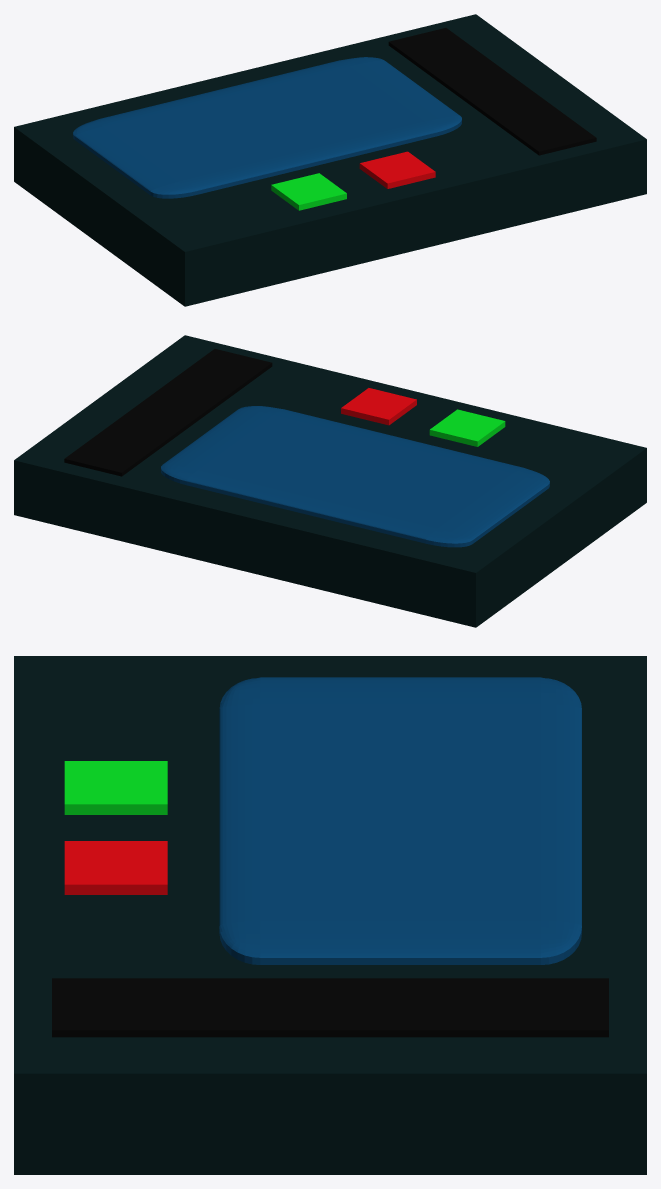
File: CardReader.fbx
3 renders of one model, top to bottom at view 1: azimuth 30°, elevation 25°; view 2: azimuth 150°, elevation 25°; view 3: azimuth 270°, elevation 25°, orthographic. The views are drawn at different scales.
Parts seen in each view (by area): view 1: Cube, Cube.002, Cube.001, Cube.003, Cube.004; view 2: Cube, Cube.002, Cube.001, Cube.004, Cube.003; view 3: Cube, Cube.002, Cube.001, Cube.003, Cube.004.
Part boxes in pixels (box(x1,y1,x2,y2)): Cube: box(14, 14, 646, 306); Cube.002: box(73, 57, 461, 198); Cube.001: box(388, 28, 596, 155); Cube.003: box(359, 151, 435, 188); Cube.004: box(271, 173, 346, 210); Cube: box(14, 335, 646, 627); Cube.002: box(161, 406, 549, 547); Cube.001: box(64, 349, 272, 476); Cube.004: box(429, 409, 505, 446); Cube.003: box(341, 388, 416, 425); Cube: box(14, 656, 646, 1174); Cube.002: box(219, 677, 581, 964); Cube.001: box(52, 978, 608, 1037); Cube.003: box(64, 841, 167, 894); Cube.004: box(64, 761, 167, 814).
Size of the model in its own units: 312 by 39.69 by 200.
